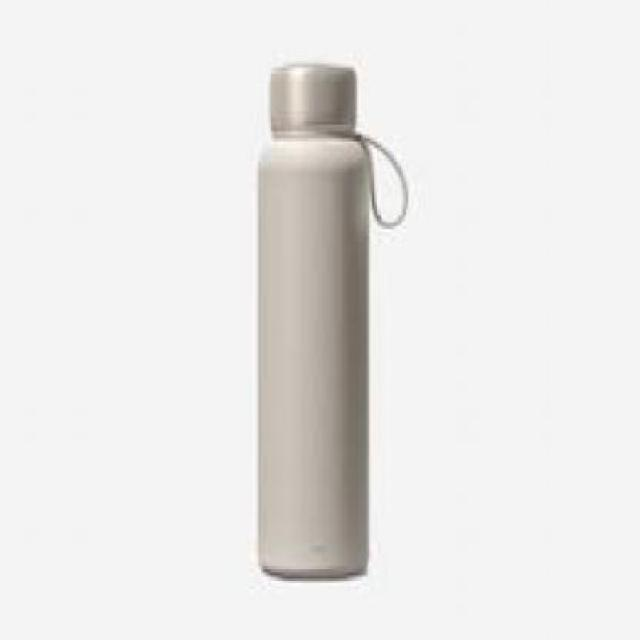Drinking: (237, 54, 377, 603)
